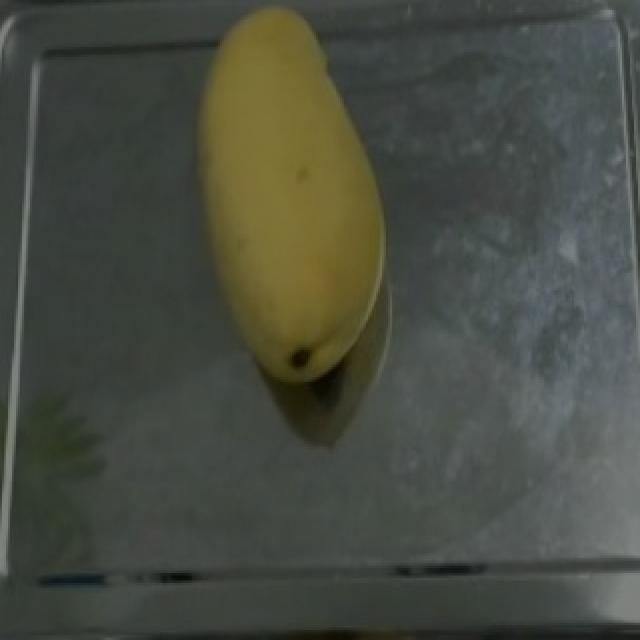fruit: (170, 5, 412, 382)
